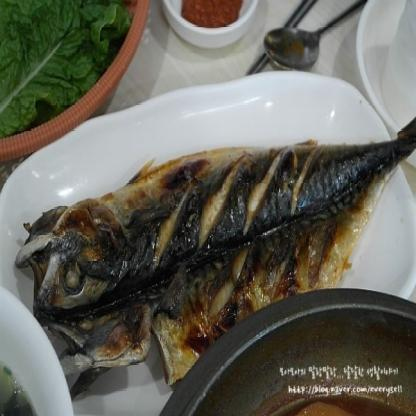Peixe: (25, 105, 416, 396)
